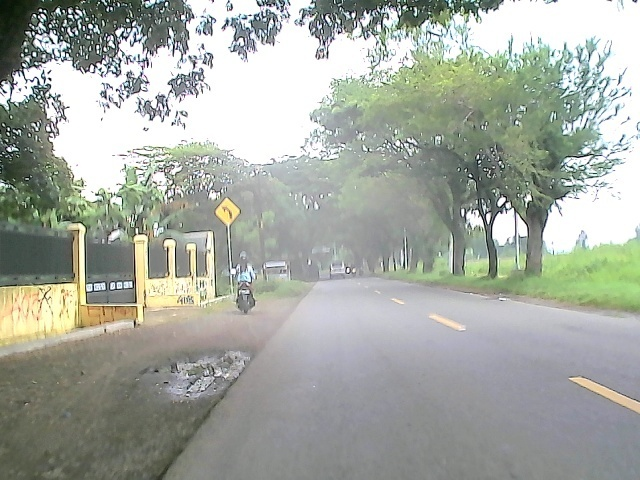Tikungan ke kiri: (211, 195, 245, 228)
